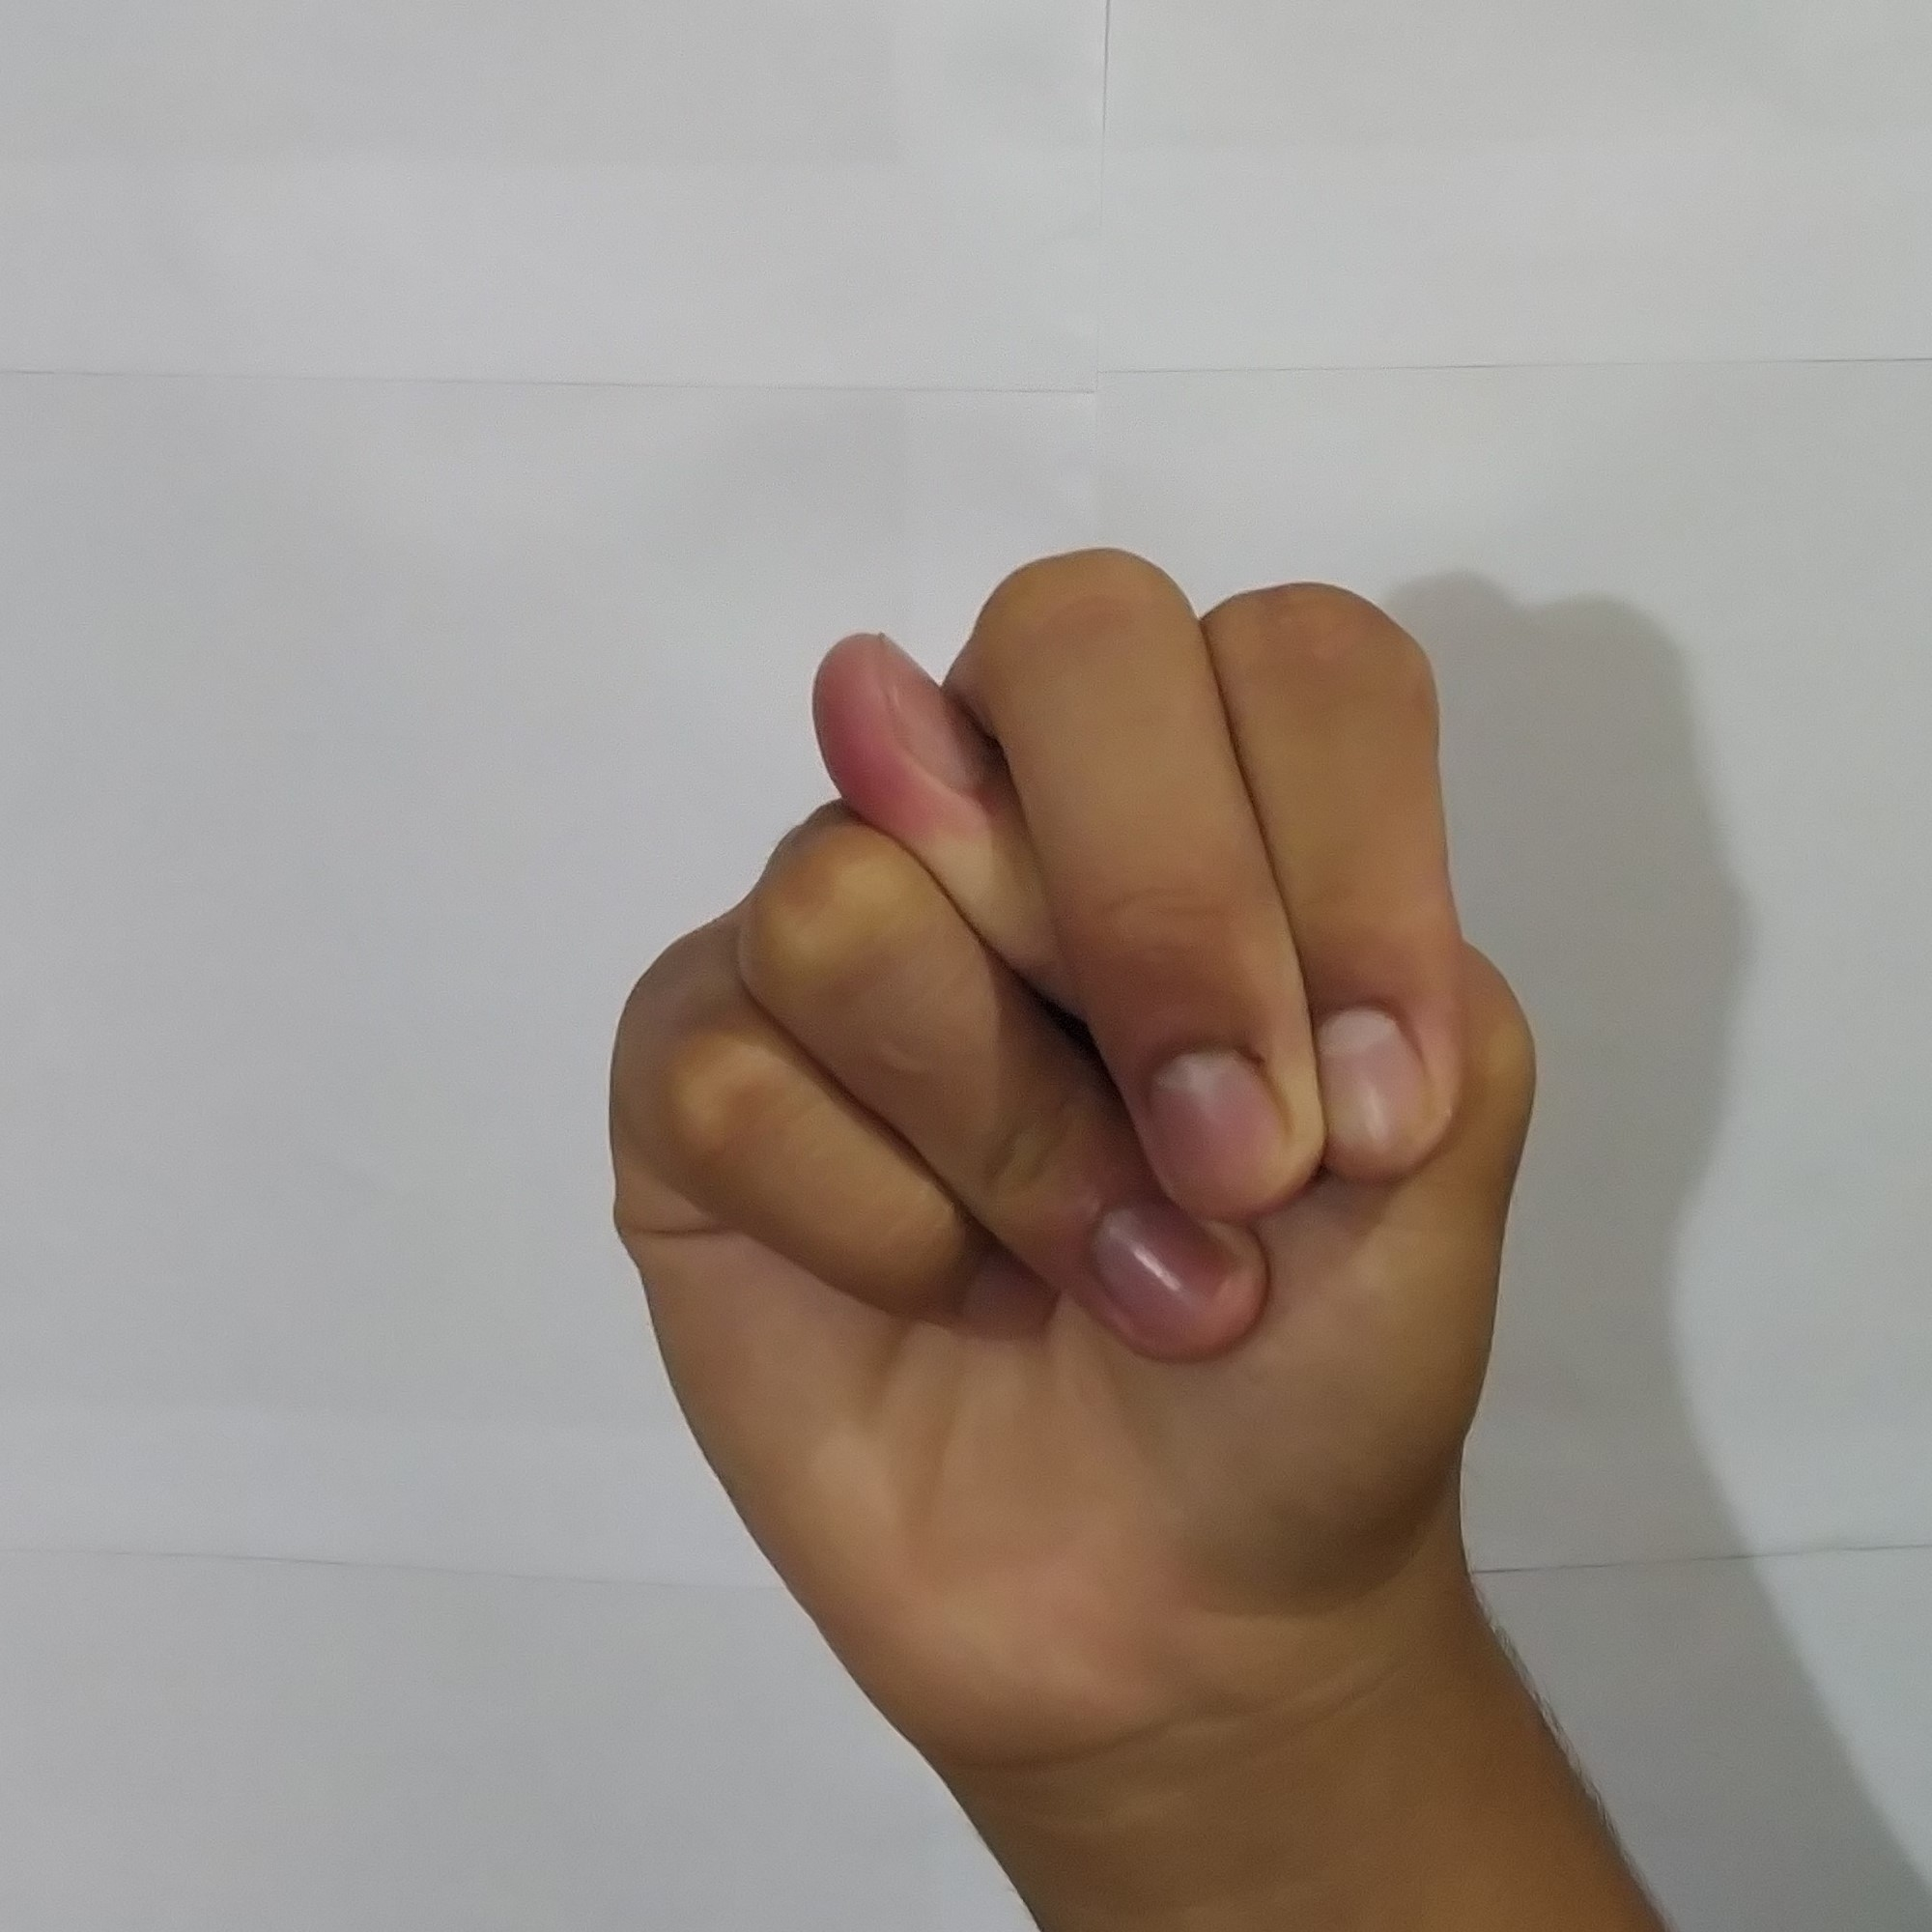N: (564, 513, 1552, 1720)
